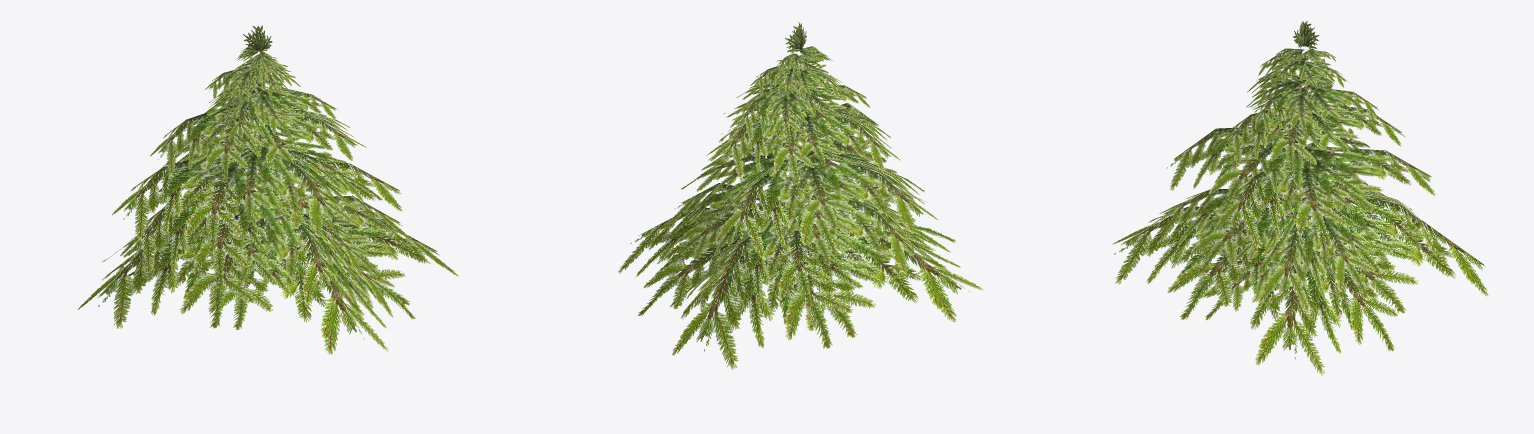
File: Branchs.fbx
3 views of the same model, side by side, from view 1: azimuth 30°, elevation 25°; view 2: azimuth 150°, elevation 25°; view 3: azimuth 270°, elevation 25° (orthographic). The views are drawn at different scales.
Parts seen in each view (by area): view 1: Branchs; view 2: Branchs; view 3: Branchs.
Boxes of the visible parts, bbox=[...] form: Branchs: bbox=[77, 25, 458, 354]; Branchs: bbox=[618, 22, 983, 369]; Branchs: bbox=[1112, 21, 1488, 375].
Bounding box in the file's own units: 10.01 × 7.92 × 9.97.
